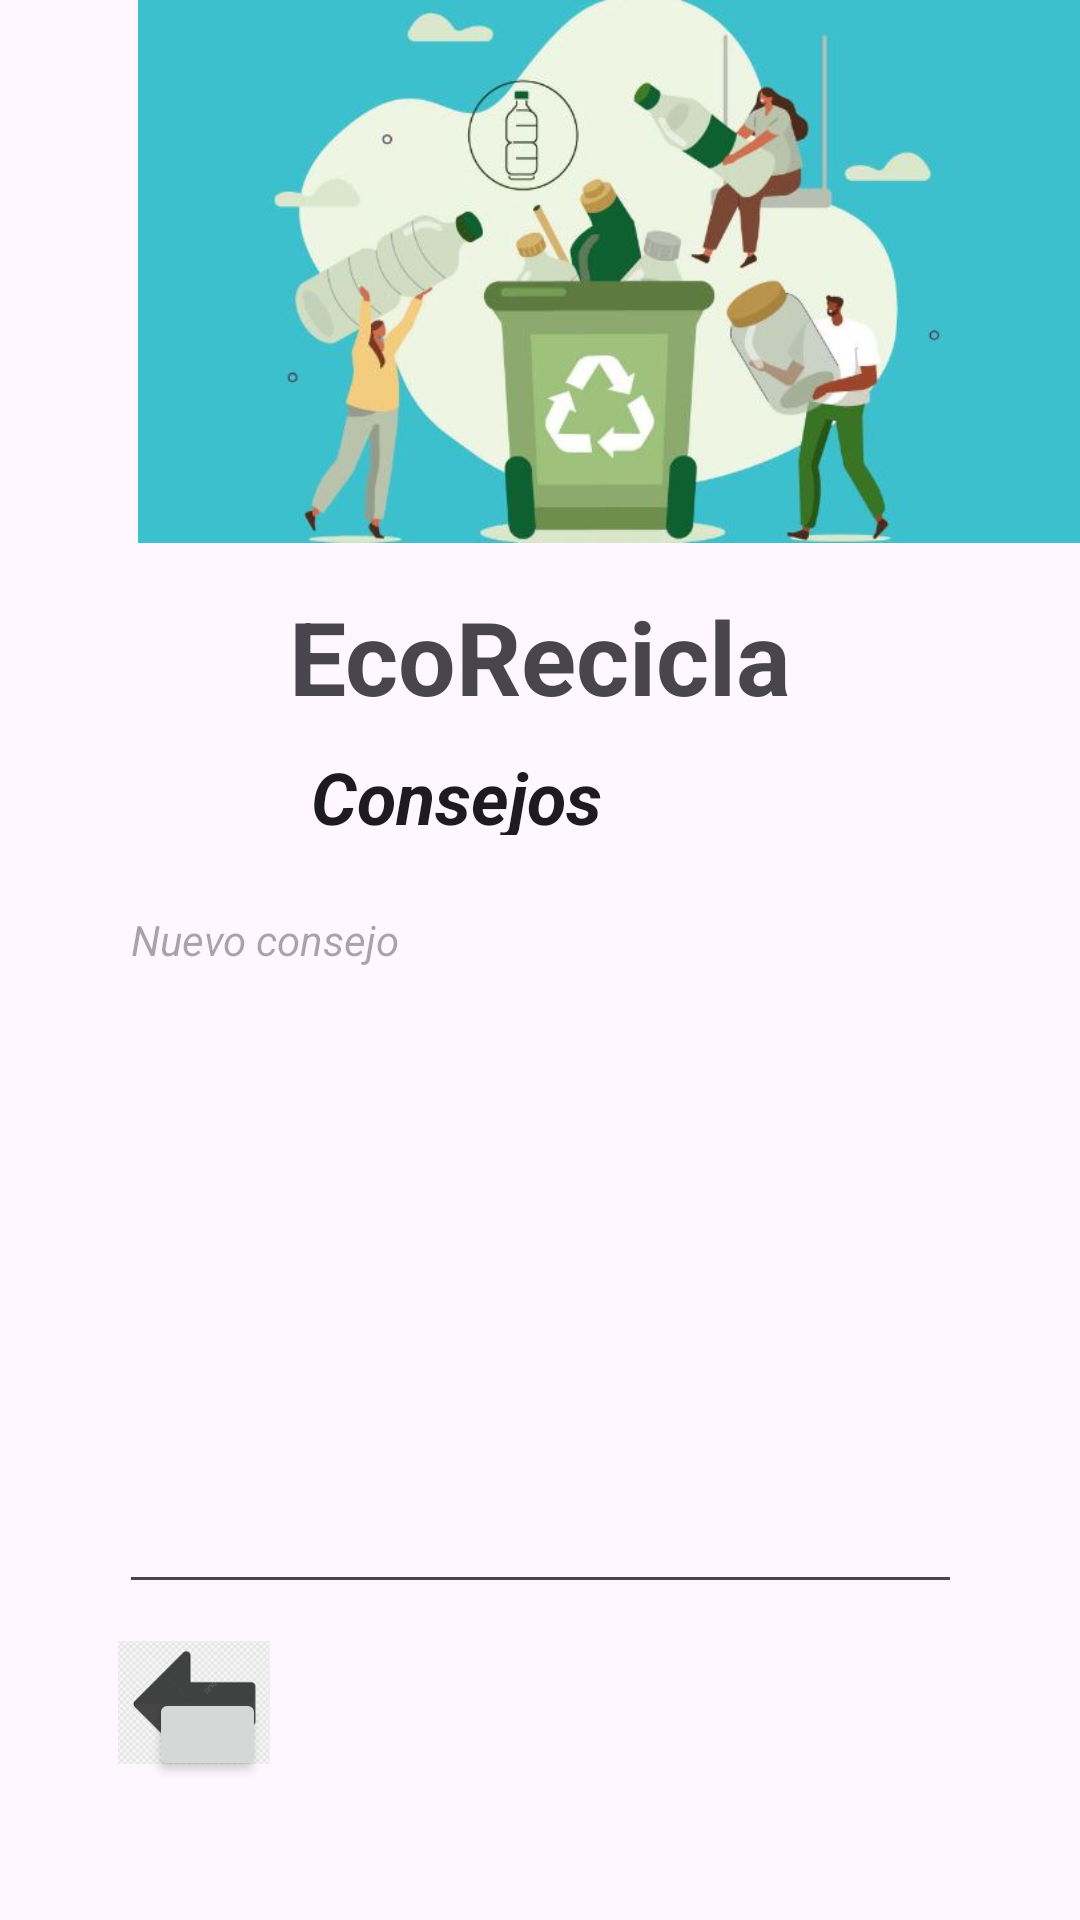

Icons on this 1080x1920 Android screen, each with its box as (x1, y1, x2, y2):
atras: (118, 1641, 268, 1764)
